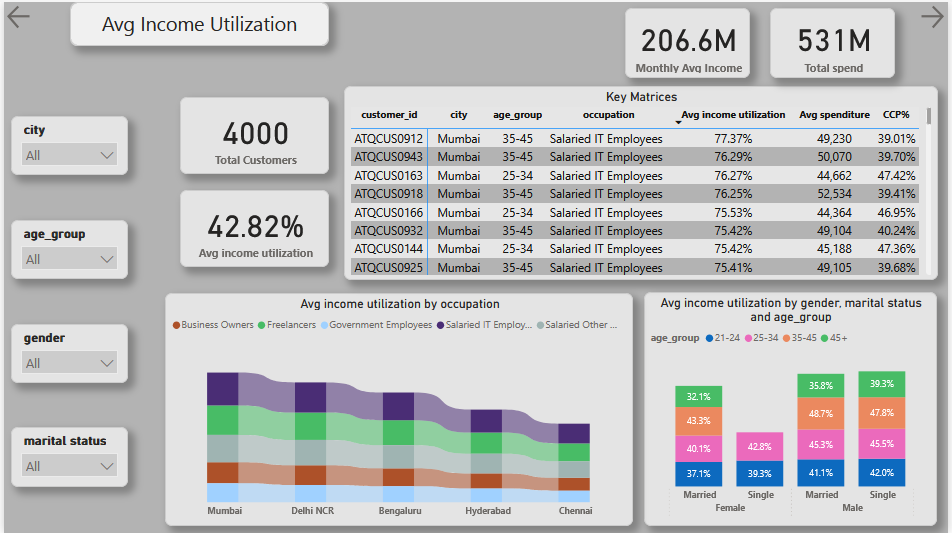

This screenshot's page, from the dashboard's own definition file:
{"tool":"powerbi","page":{"name":"AIU %","canvas":[1280,720],"ordinal":4},"visuals":[{"type":"card","fields":{"Values":["Sum(dim_customers.avg_income)"]},"box":[841.9,8.5,170.1,95],"z":0},{"type":"columnChart","fields":{"Category":["dim_customers.gender","dim_customers.marital status"],"Y":["fact_spends.Avg income utilization"],"Series":["dim_customers.age_group"]},"box":[868.4,393.6,396.7,317],"z":1000},{"type":"ribbonChart","title":"Avg income utilization by occupation","fields":{"Category":["dim_customers.city"],"Y":["fact_spends.Avg income utilization"],"Series":["dim_customers.occupation"]},"box":[218.3,394,635,316.1],"z":2000},{"type":"pivotTable","title":"Key Matrices","fields":{"Values":["Min(dim_customers.city)","Min(dim_customers.age_group)","Min(dim_customers.occupation)","fact_spends.Avg income utilization","fact_spends.Avg spenditure","fact_spends.CCP%"],"Rows":["dim_customers.customer_id"]},"box":[460.6,113.4,805,263.6],"z":3000},{"type":"card","fields":{"Values":["Sum(fact_spends.spend)"]},"box":[1038.9,8.5,170.1,95],"z":4000},{"type":"textbox","box":[89,0,351,60],"z":5000},{"type":"card","fields":{"Values":["fact_spends.Avg income utilization"]},"box":[238.1,255.1,202.7,104.9],"z":6000},{"type":"actionButton","box":[0,0,42.2,40.6],"z":7000},{"type":"actionButton","box":[1238.5,0,42.2,40.6],"z":8000},{"type":"card","fields":{"Values":["Count(dim_customers.customer_id)"]},"box":[238.1,129,202.7,104.9],"z":9000},{"type":"slicer","fields":{"Values":["dim_customers.marital status"]},"box":[9.9,576.9,158.7,80.8],"z":10000},{"type":"slicer","fields":{"Values":["dim_customers.city"]},"box":[9.9,154.5,158.7,79.4],"z":11000},{"type":"slicer","fields":{"Values":["dim_customers.gender"]},"box":[9.9,436.1,158.7,79.4],"z":12000},{"type":"slicer","fields":{"Values":["dim_customers.age_group"]},"box":[9.9,295.3,158.7,79.4],"z":13000}]}

Visuals, with their boxes in screenshot pixels (x1, y1, x2, y2), scaled from the page's 1280x720 canvas onto the 952x533 screenshot:
card - Sum(dim_customers.avg_income): locate(626, 6, 753, 77)
columnChart - dim_customers.gender x dim_customers.marital status: locate(646, 291, 941, 526)
"Avg income utilization by occupation" ribbonChart: locate(162, 292, 635, 526)
"Key Matrices" pivotTable: locate(343, 84, 941, 279)
card - Sum(fact_spends.spend): locate(773, 6, 899, 77)
textbox: locate(66, 0, 327, 44)
card - fact_spends.Avg income utilization: locate(177, 189, 328, 266)
actionButton: locate(0, 0, 31, 30)
actionButton: locate(921, 0, 951, 30)
card - Count(dim_customers.customer_id): locate(177, 95, 328, 173)
slicer - dim_customers.marital status: locate(7, 427, 125, 487)
slicer - dim_customers.city: locate(7, 114, 125, 173)
slicer - dim_customers.gender: locate(7, 323, 125, 382)
slicer - dim_customers.age_group: locate(7, 219, 125, 277)
